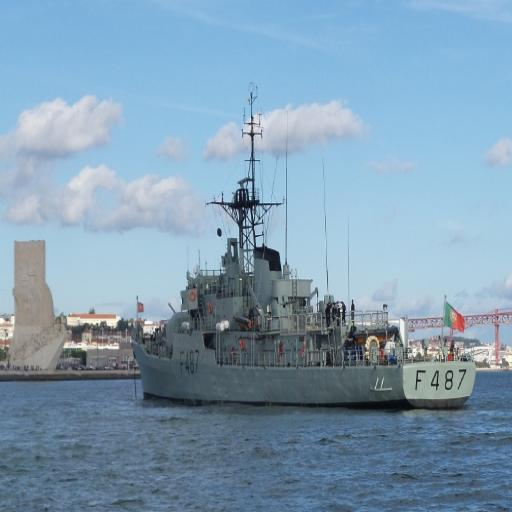Fragata: (123, 78, 483, 415)
